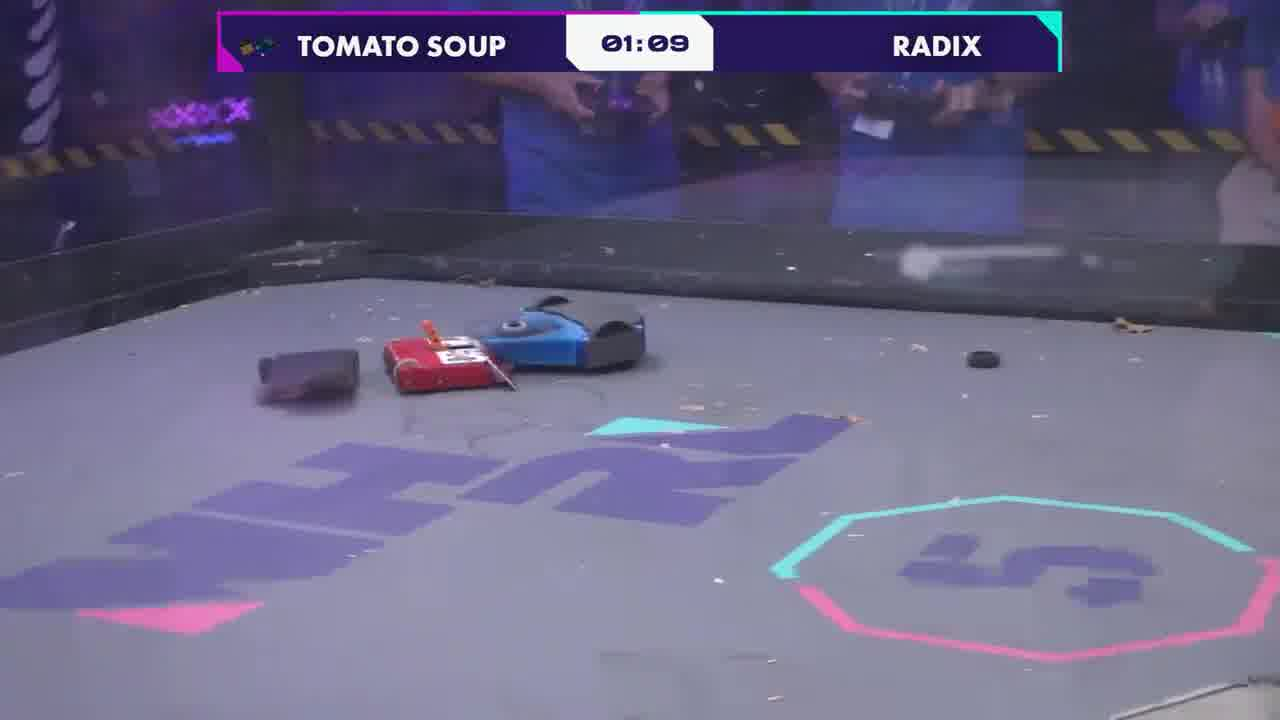combatbot: (496, 293, 651, 377), (383, 322, 520, 397)
housebot: (1106, 673, 1278, 716)
minibot: (254, 346, 358, 405)
wheel: (966, 350, 1002, 369)
